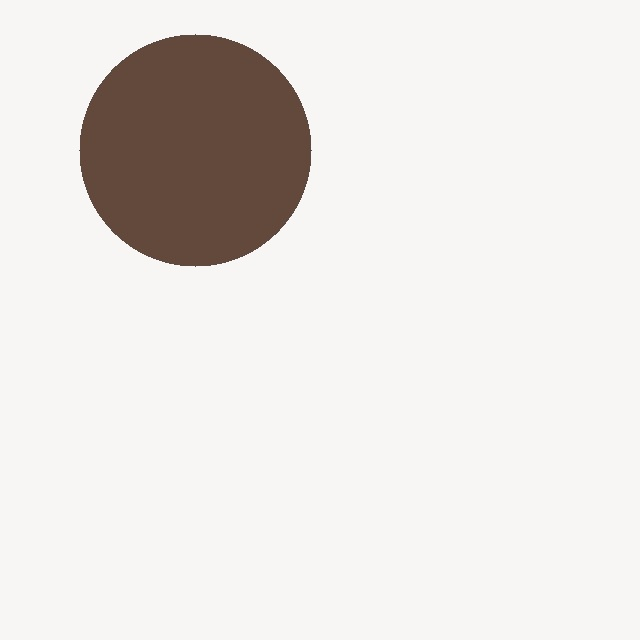circle: (79, 33, 312, 267)
